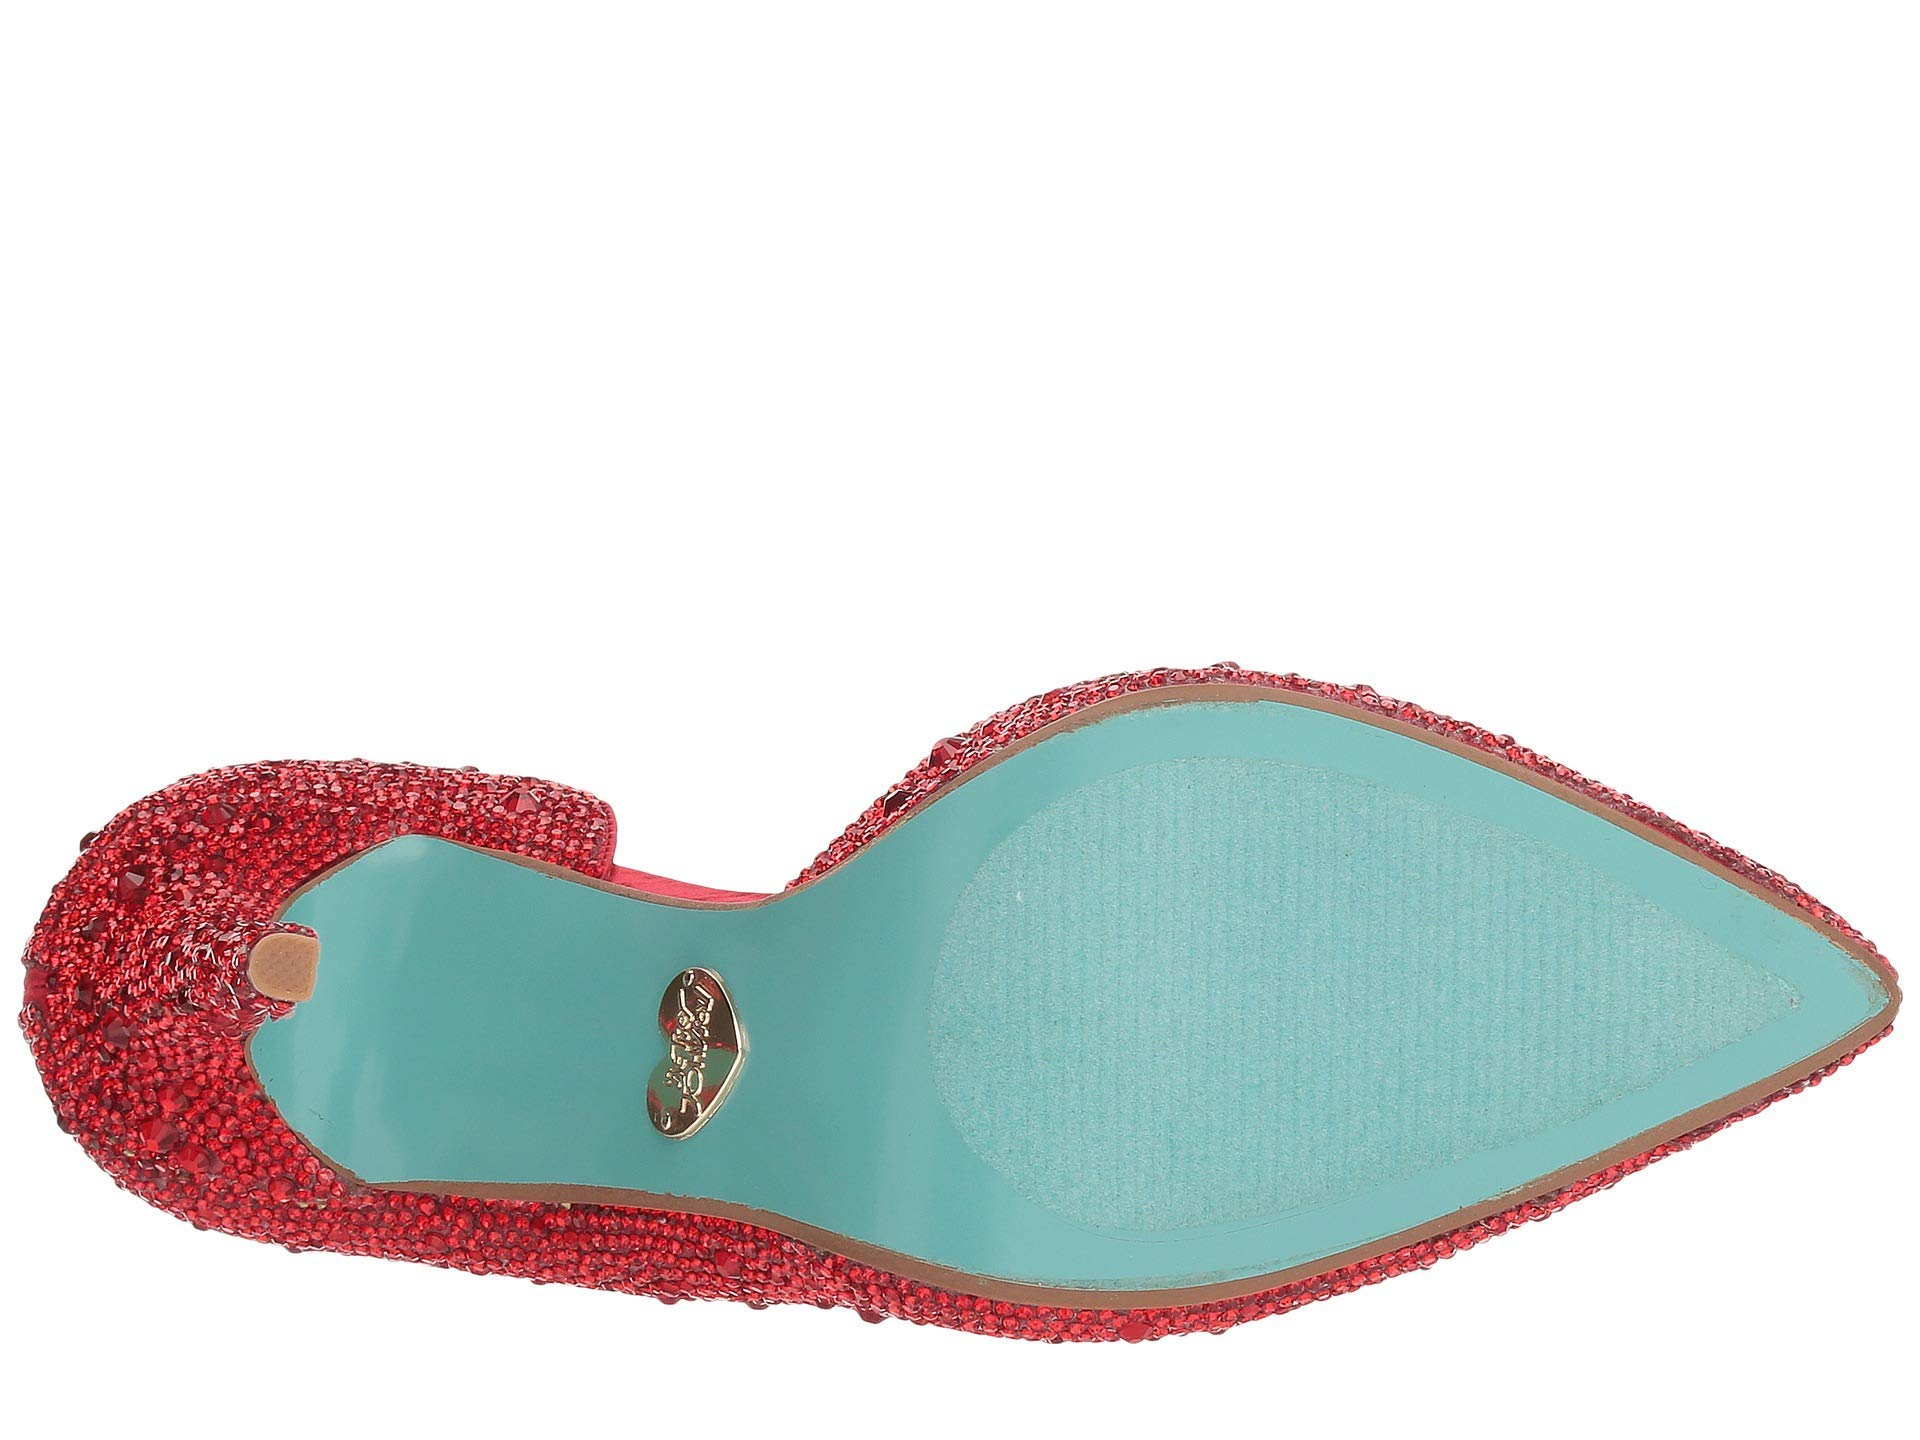exclude: (352, 718, 881, 1308), (42, 768, 237, 1203)
line: (1058, 759, 1642, 1144)
quad: (252, 926, 317, 1012)
